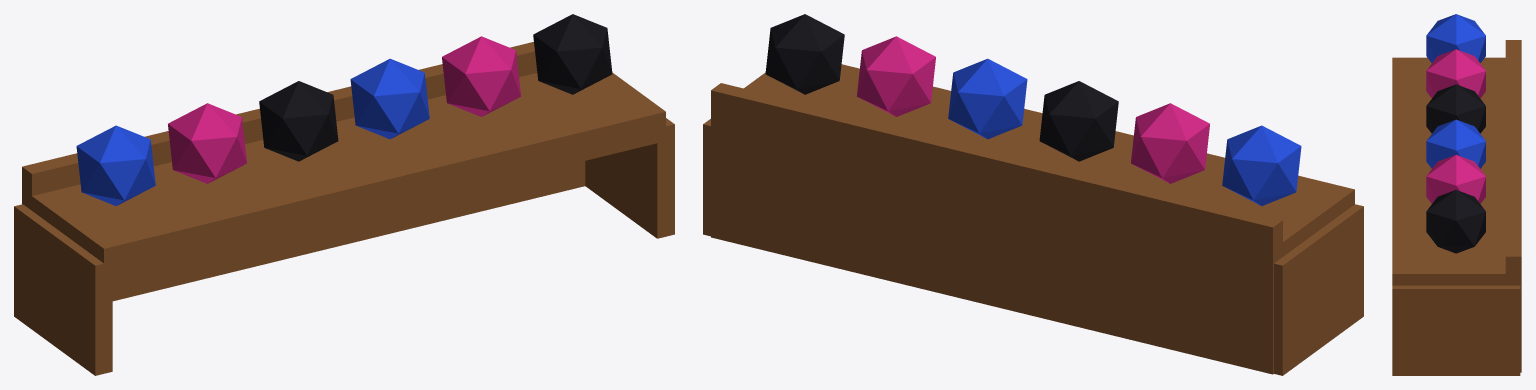
File: ball_rack.glb
3 views of the same model, side by side, from view 1: azimuth 30°, elevation 25°; view 2: azimuth 150°, elevation 25°; view 3: azimuth 270°, elevation 25° (orthographic). The views are drawn at different scales.
Visible parts, largest first — view 1: ball_rack; view 2: ball_rack; view 3: ball_rack.
Boxes of the visible parts, x1=… form: ball_rack: x1=14, y1=14, x2=674, y2=375; ball_rack: x1=703, y1=14, x2=1363, y2=375; ball_rack: x1=1392, y1=14, x2=1521, y2=375.
Size of the model in its own units: 1.65 by 0.56 by 0.405.
